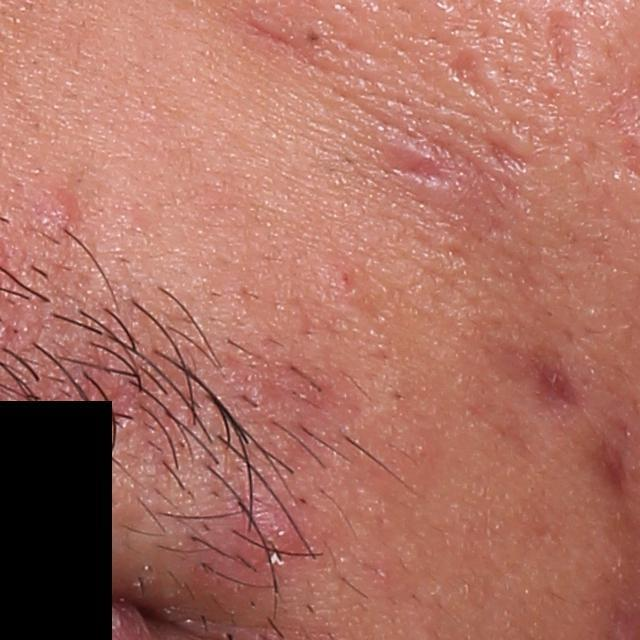atrophic_scar: (500, 324, 584, 406), (453, 126, 538, 184), (442, 48, 508, 117), (377, 151, 453, 191), (543, 12, 572, 82)
